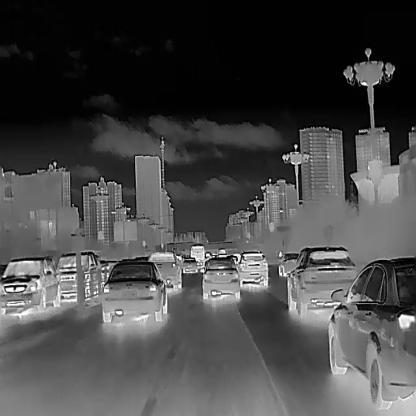car: (327, 255, 416, 410), (286, 244, 354, 317), (101, 258, 167, 322), (0, 251, 59, 313), (54, 250, 102, 298), (201, 254, 239, 298), (147, 251, 182, 290), (236, 249, 266, 287), (276, 250, 300, 277), (190, 242, 204, 270), (181, 256, 196, 273)
